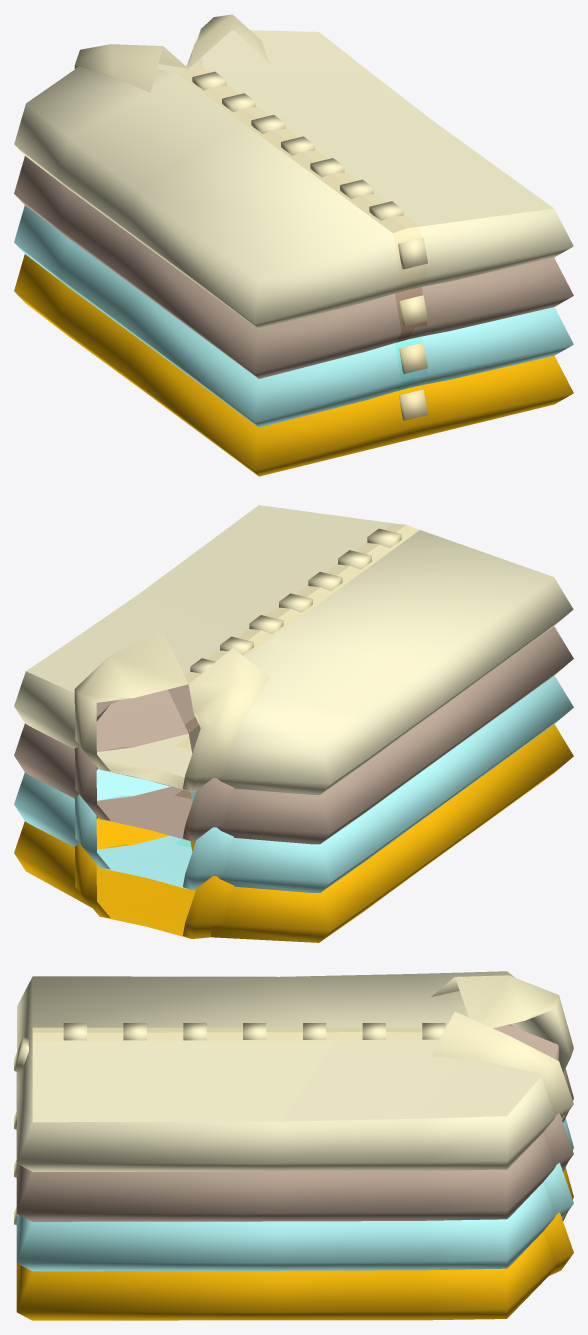
The model's file is CollarShirt_Folded_Stacked_Laundromat.fbx.
3 renders of one model, top to bottom at view 1: azimuth 30°, elevation 25°; view 2: azimuth 150°, elevation 25°; view 3: azimuth 270°, elevation 25°, orthographic.
Visible parts, largest first — view 1: CollarShirt_Folded_Stacked.Laundromat; view 2: CollarShirt_Folded_Stacked.Laundromat; view 3: CollarShirt_Folded_Stacked.Laundromat.
Part boxes in pixels (x1,y1,x2,y2): CollarShirt_Folded_Stacked.Laundromat: [14, 14, 573, 476]; CollarShirt_Folded_Stacked.Laundromat: [14, 505, 573, 942]; CollarShirt_Folded_Stacked.Laundromat: [14, 971, 573, 1320].
Size of the model in its own units: 40 by 30 by 60.
Materials: 1 (1 with a texture image).
